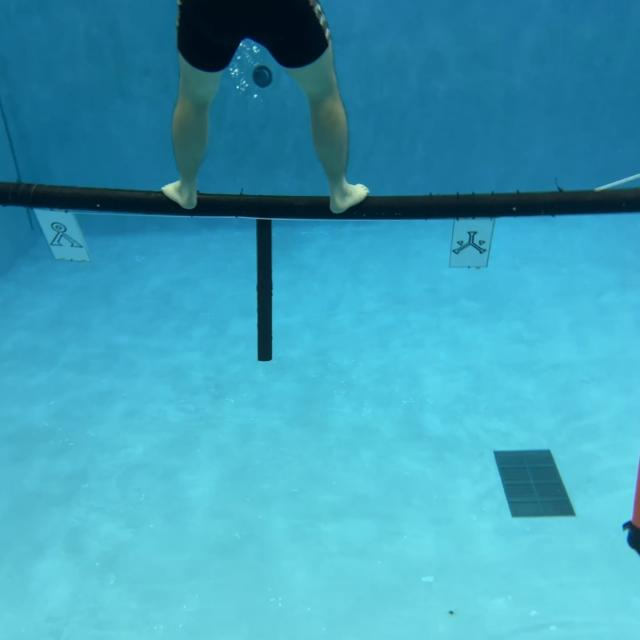gate: (1, 177, 640, 365)
